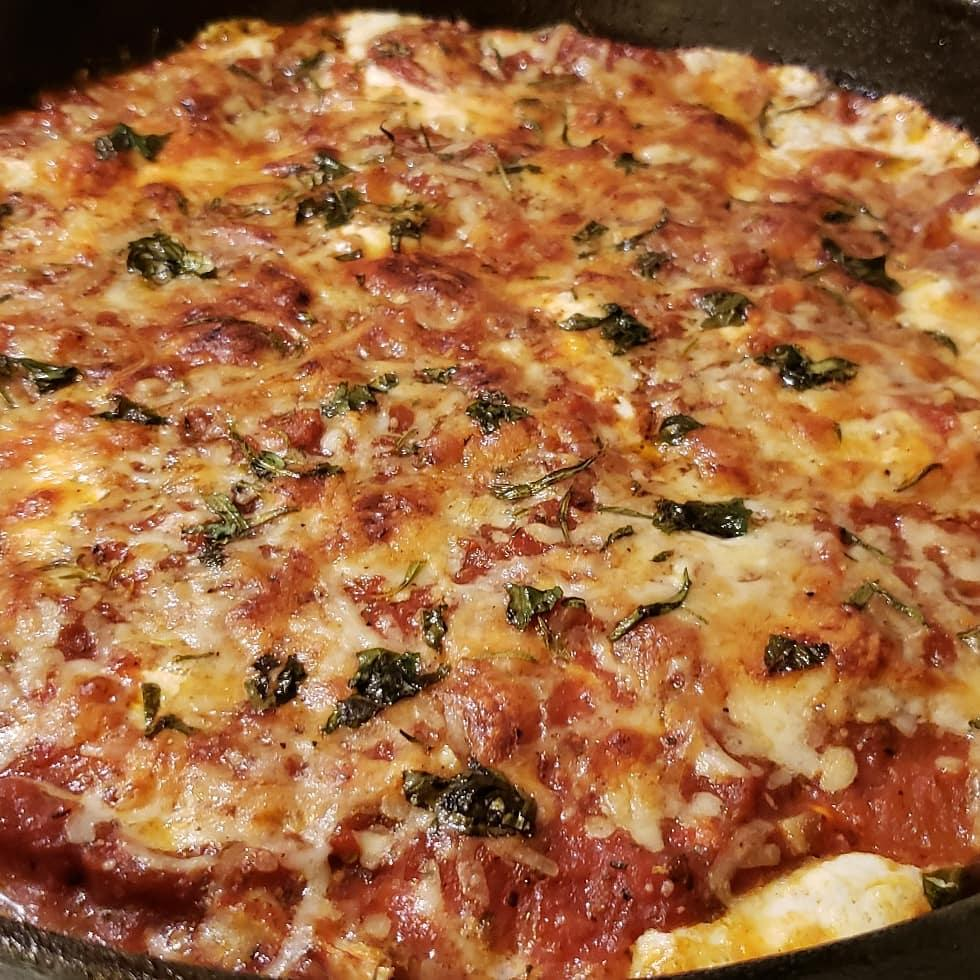Arugula: (304, 644, 437, 730), (398, 764, 535, 839), (198, 461, 297, 551), (811, 218, 904, 291), (498, 574, 582, 644), (651, 504, 757, 546), (618, 578, 693, 637), (121, 238, 211, 284), (98, 378, 169, 433), (764, 351, 850, 395), (4, 351, 82, 397), (561, 304, 648, 344), (691, 284, 755, 328), (458, 384, 522, 428), (764, 634, 830, 675), (98, 118, 157, 155), (294, 191, 357, 220)
Pizza: (1, 4, 980, 980)
